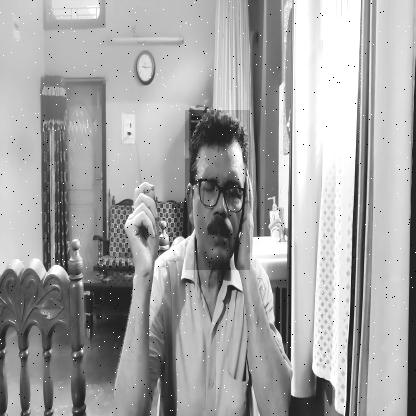Normal: (185, 110, 250, 270)
